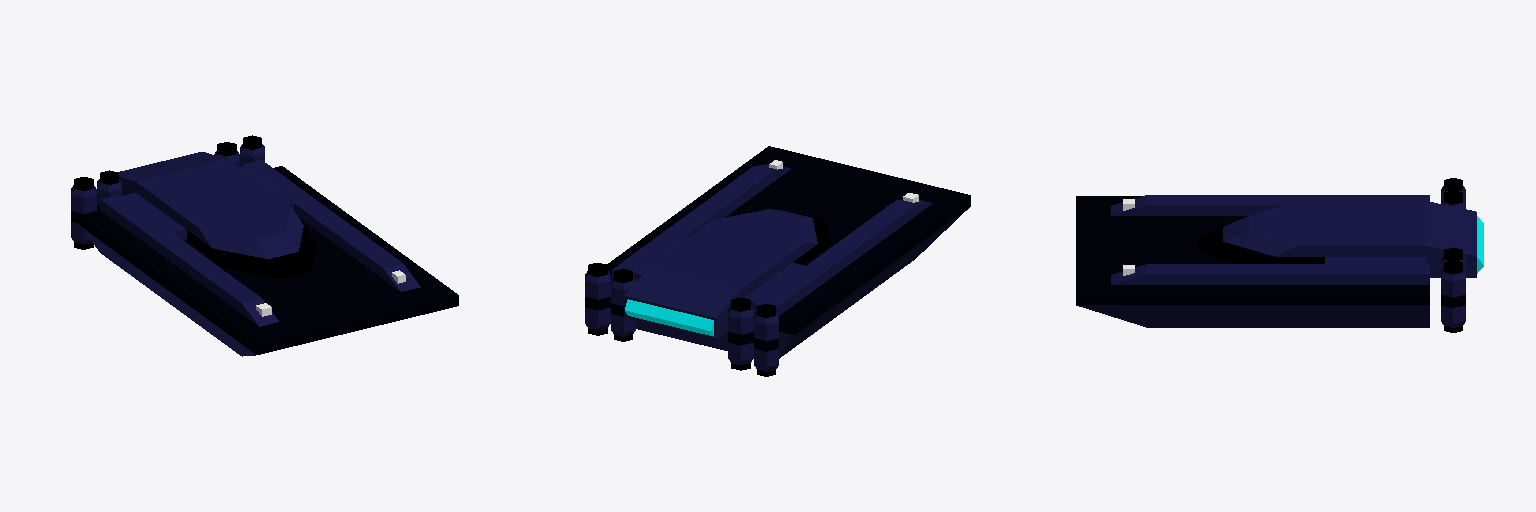
The model's file is car7.obj.
3 renders of one model, left to right at view 1: azimuth 30°, elevation 25°; view 2: azimuth 150°, elevation 25°; view 3: azimuth 270°, elevation 25°, orthographic.
Parts seen in each view (by area): view 1: mergedBlocks; view 2: mergedBlocks; view 3: mergedBlocks.
Part boxes in pixels (left/top/right/bottom): mergedBlocks: left=71, top=135, right=458, bottom=356; mergedBlocks: left=585, top=146, right=970, bottom=376; mergedBlocks: left=1076, top=178, right=1483, bottom=332.
Size of the model in its own units: 1.98 by 0.6 by 3.46.